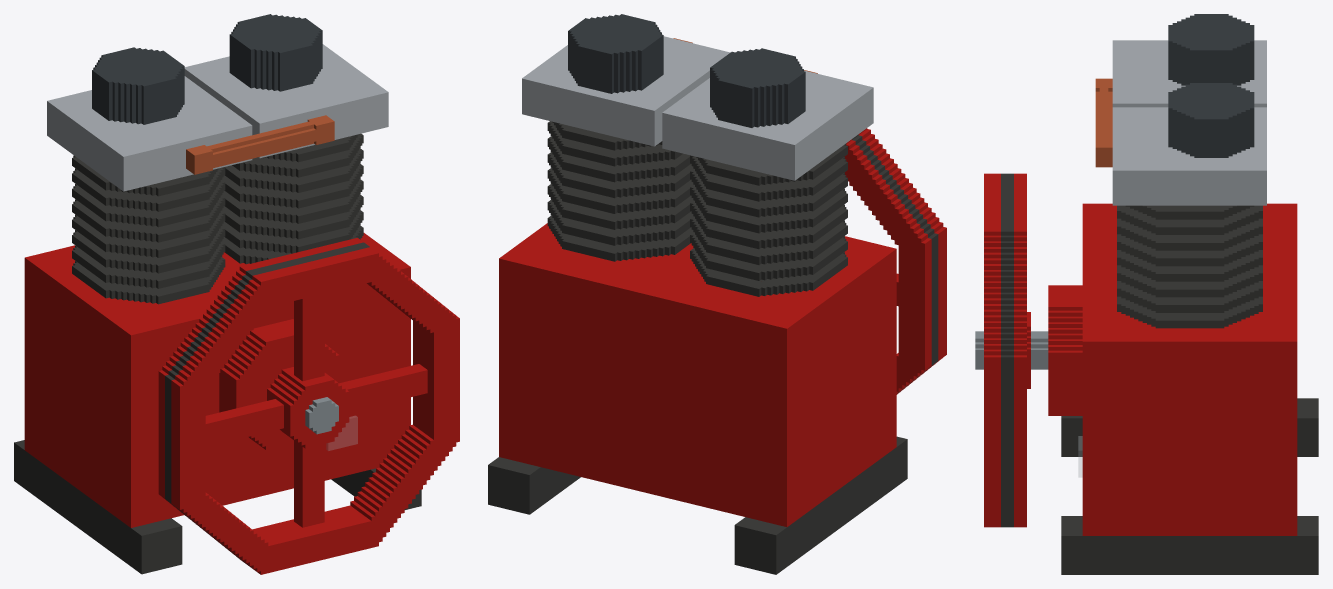
The model's file is hd_compressor.glb.
3 views of the same model, side by side, from view 1: azimuth 30°, elevation 25°; view 2: azimuth 150°, elevation 25°; view 3: azimuth 270°, elevation 25° (orthographic). The views are drawn at different scales.
Visible parts, largest first — view 1: hd_compressor:compound; view 2: hd_compressor:compound; view 3: hd_compressor:compound.
Part boxes in pixels (x1,y1,x2,y2): hd_compressor:compound: (14,14,459,574); hd_compressor:compound: (488,14,946,574); hd_compressor:compound: (975,14,1318,574).
Size of the model in its own units: 0.304 by 0.452 by 0.32.
